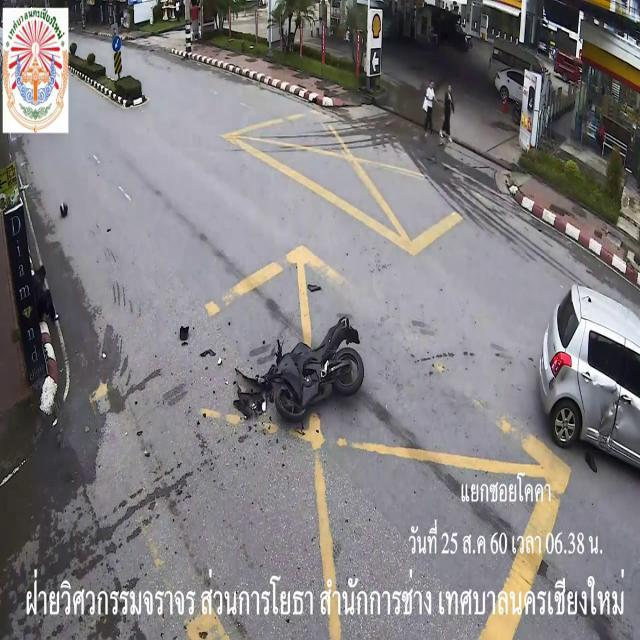multiple_accident: (492, 247, 640, 475), (213, 230, 377, 432)
